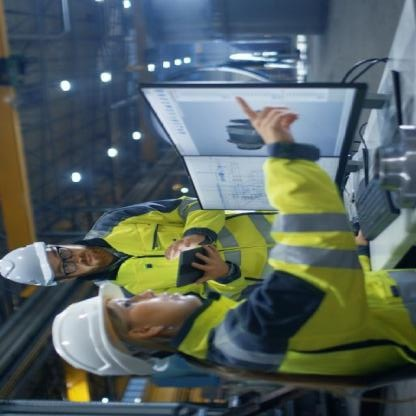vest: (177, 204, 414, 391), (77, 198, 264, 302)
white: (46, 280, 170, 382), (3, 236, 58, 290)
